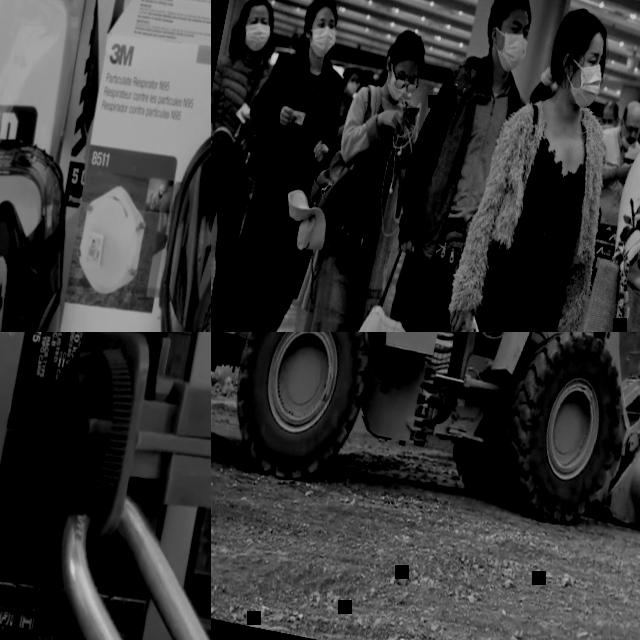Mask: (129, 102, 211, 332), (0, 226, 81, 332), (568, 60, 606, 112), (496, 30, 530, 75), (308, 25, 338, 59), (242, 20, 270, 52), (386, 76, 414, 106), (344, 78, 361, 96), (618, 135, 634, 150), (600, 121, 614, 131)
NO-Hardhat: (304, 0, 337, 18), (242, 0, 274, 17), (622, 97, 640, 121), (602, 99, 622, 115)
NO-Safety Vest: (492, 100, 600, 276), (429, 68, 523, 248), (258, 48, 346, 199), (211, 52, 275, 190), (606, 138, 640, 332), (345, 88, 409, 186), (590, 130, 640, 223)
Person: (398, 0, 628, 332), (342, 0, 545, 332), (211, 0, 363, 332), (282, 20, 437, 332), (542, 34, 640, 332), (211, 0, 293, 332), (590, 95, 640, 226), (332, 68, 361, 136), (598, 95, 622, 134)
vehicle: (211, 332, 640, 566)
